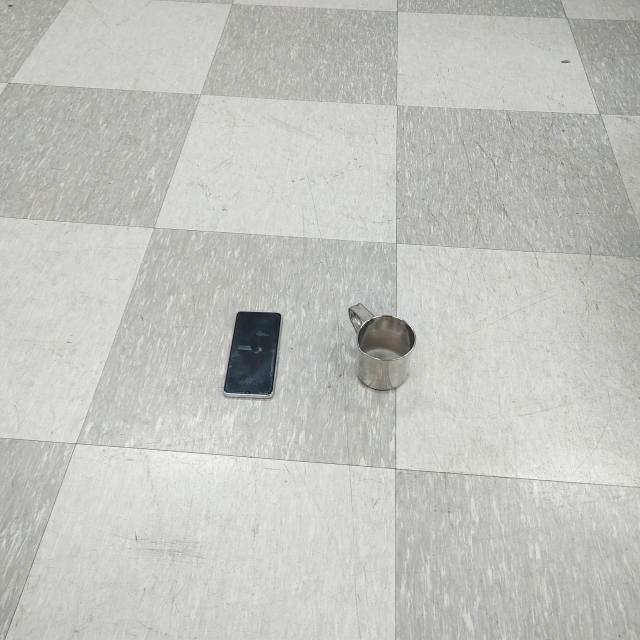cup: (346, 303, 417, 392)
phone: (221, 310, 282, 401)
